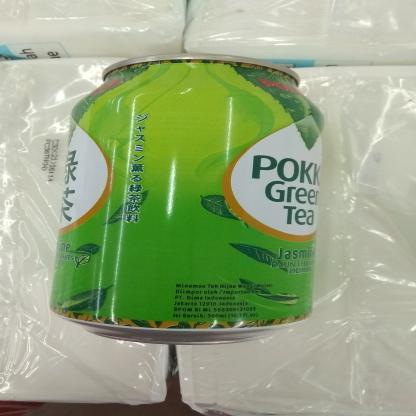can: (46, 51, 327, 345)
